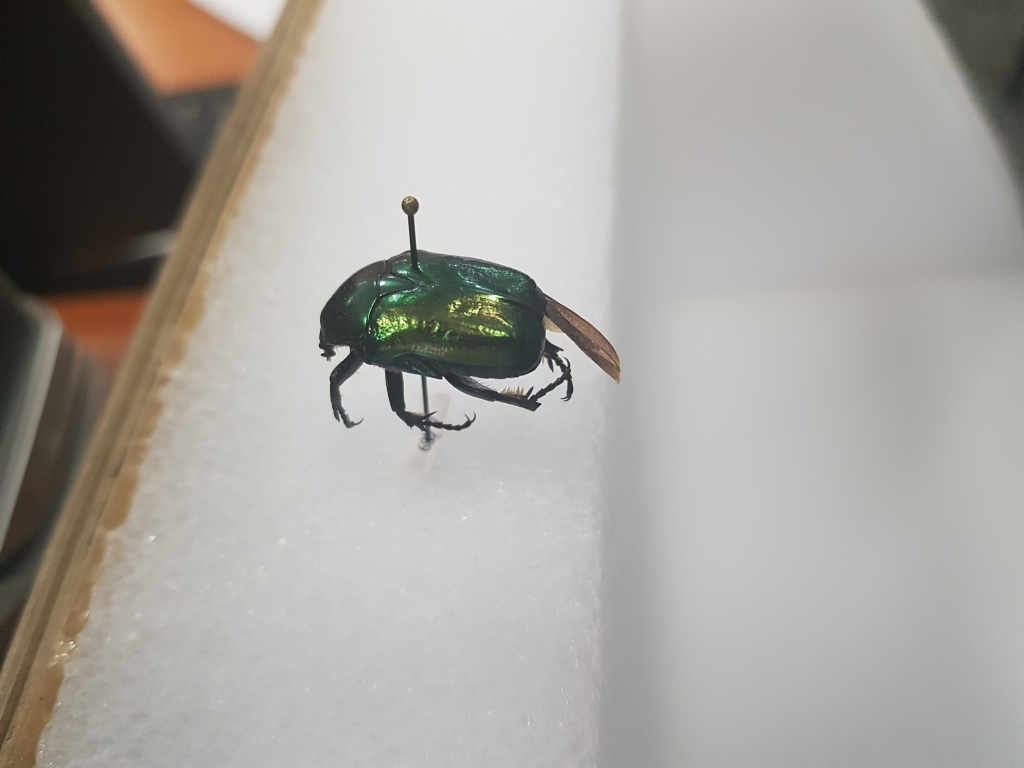Protaetia_angustata_angustata: (315, 232, 626, 468)
